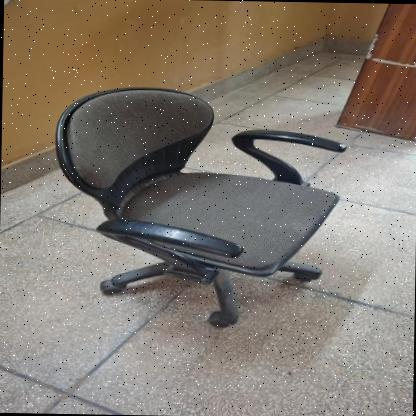chair: (47, 79, 354, 335)
